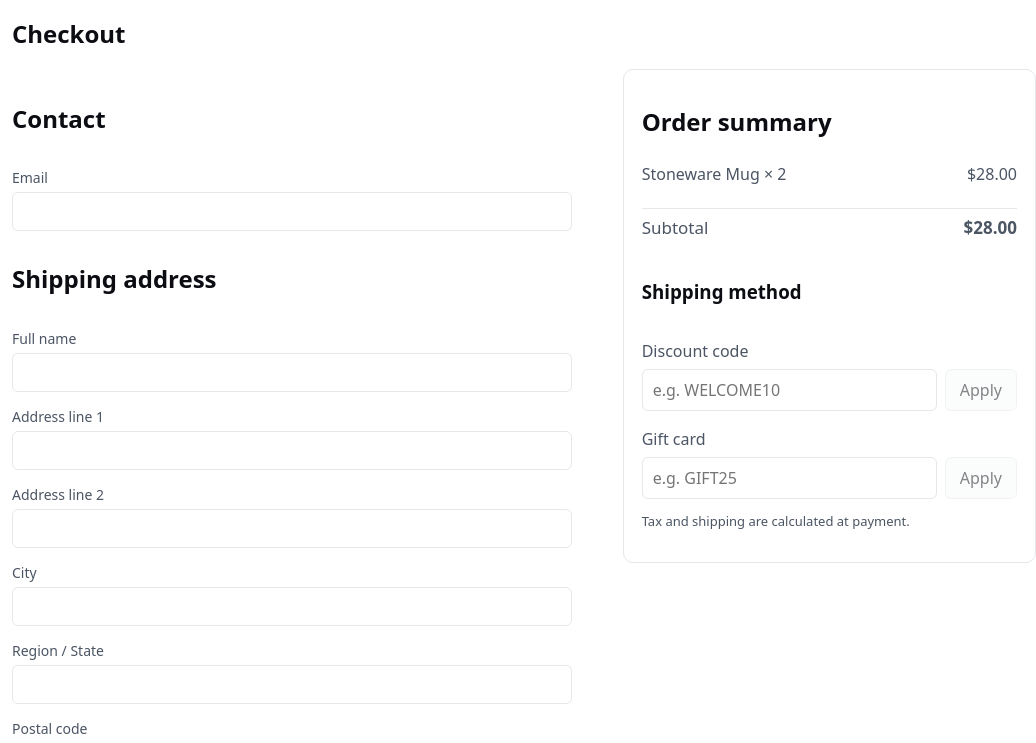
CheckoutPage › previews an applied discount code
The width and height of the screenshot is (1036, 743).
Expected: the heading "Order summary" is shown, [642,104,832,138]
Type "WELCOME10" into the field labelled "Discount code" at x=789, y=390, box [642,369,937,411]
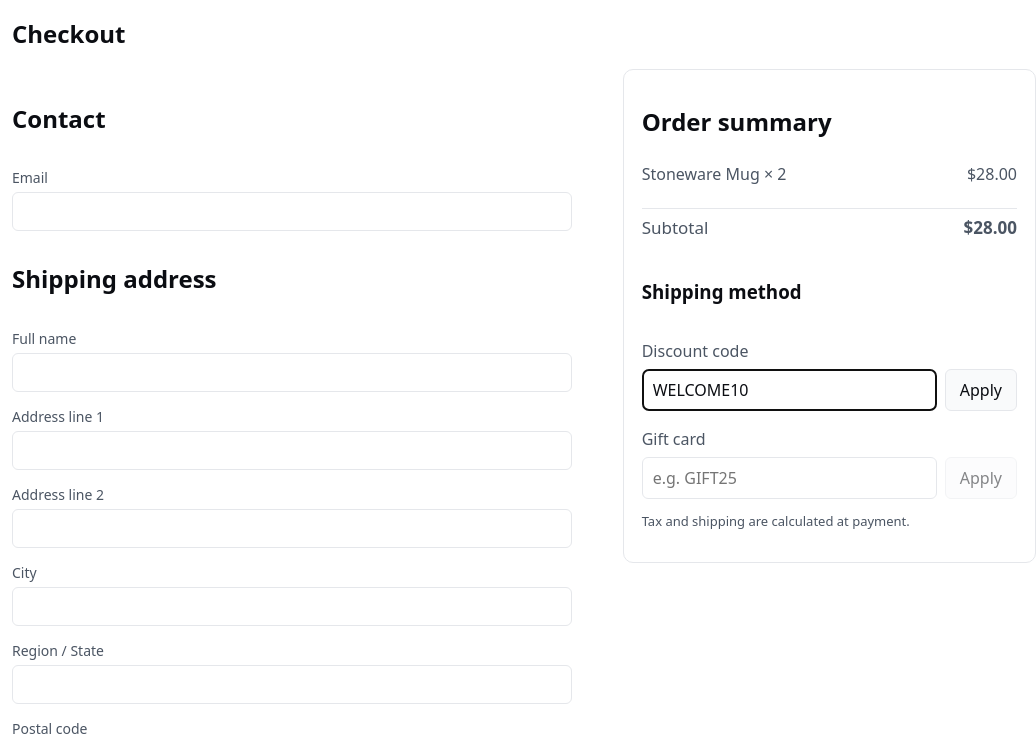
// The first "Apply" button is the discount one (gift-card entry adds a second).
Click the button "Apply" below "Discount code" at x=981, y=390, box [945,369,1017,411]
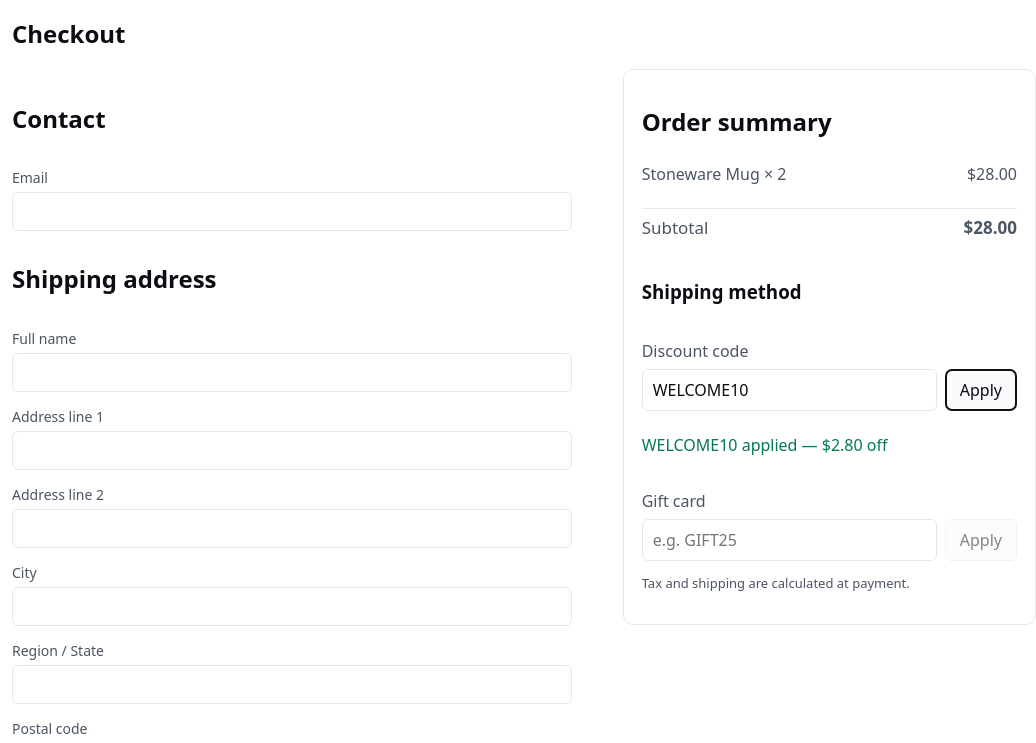
Expected: the text "WELCOME10 applied — $2.80 off" is shown, [642,434,888,456]
